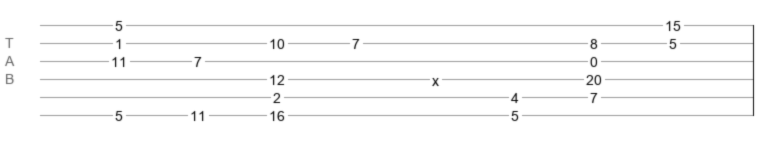0: (590, 54, 598, 64)
1: (115, 36, 123, 46)
10: (269, 36, 285, 46)
11: (111, 54, 127, 64), (190, 108, 206, 118)
12: (269, 72, 285, 82)
15: (665, 18, 681, 28)
16: (269, 108, 285, 118)
2: (273, 90, 281, 100)
20: (586, 72, 602, 82)
4: (511, 90, 519, 100)
5: (115, 108, 123, 118), (115, 18, 123, 28), (511, 108, 519, 118), (669, 36, 677, 46)
7: (194, 54, 202, 64), (352, 36, 360, 46), (590, 90, 598, 100)
8: (590, 36, 598, 46)
x: (432, 73, 439, 81)
